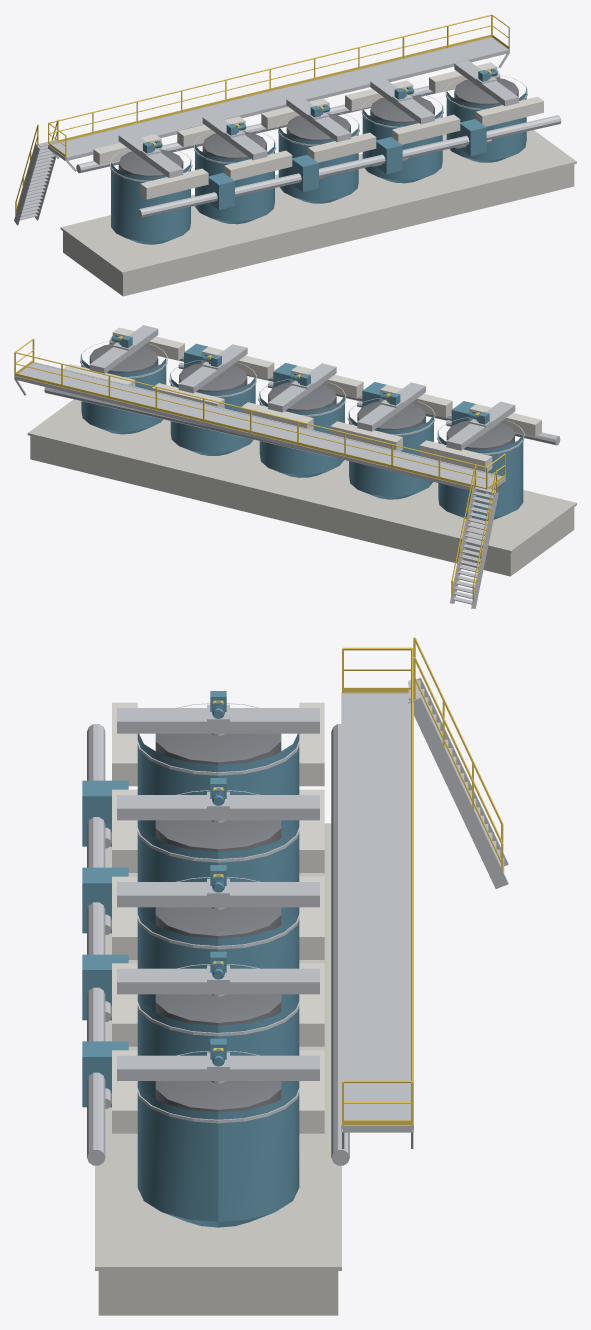
Rendered from ore-processing-and-haulage-plant-flotation-cell-bank-f0761855.glb.
3 views of the same model, one above another, from view 1: azimuth 30°, elevation 25°; view 2: azimuth 150°, elevation 25°; view 3: azimuth 270°, elevation 25° (orthographic). The views are drawn at different scales.
Visible parts, largest first — view 1: flotation-cell-bank; view 2: flotation-cell-bank; view 3: flotation-cell-bank.
Boxes of the visible parts, <box> form: flotation-cell-bank: <box>14,14,576,296</box>; flotation-cell-bank: <box>14,325,576,608</box>; flotation-cell-bank: <box>82,637,508,1315</box>.
Size of the model in its own units: 23.01 by 5.63 by 9.24.
